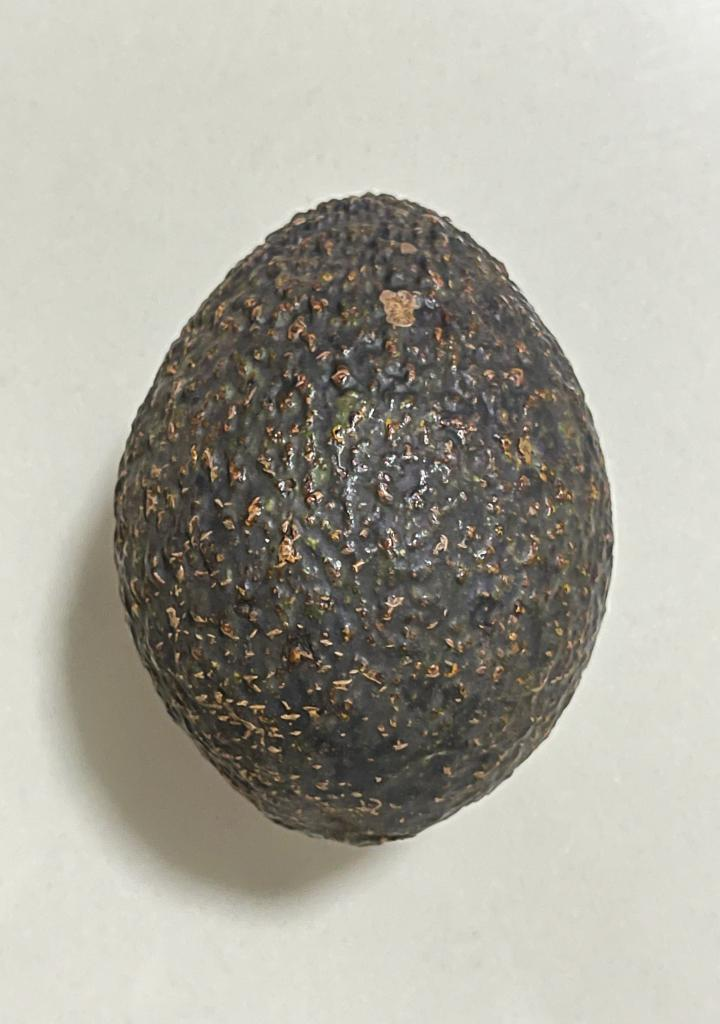Level2: (105, 178, 625, 858)
